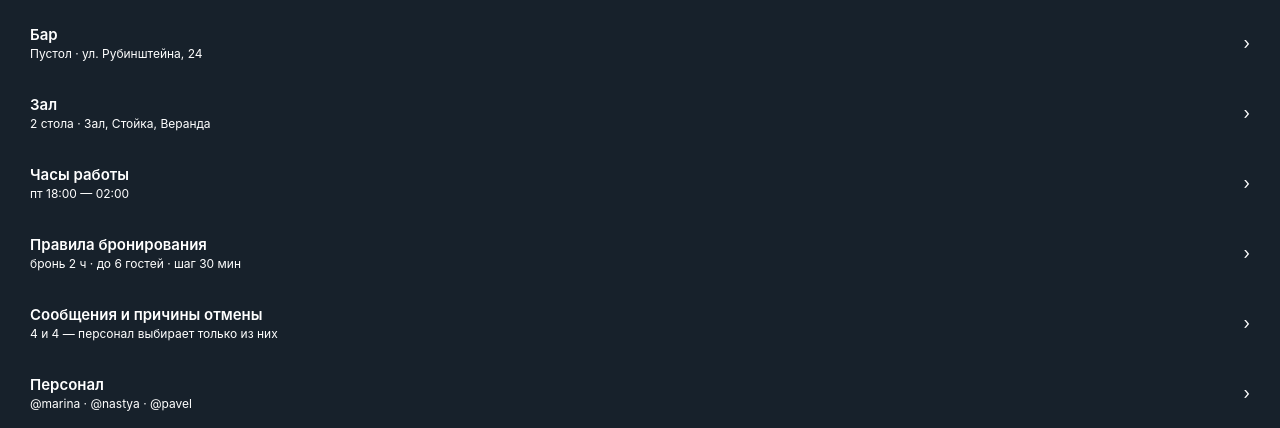
Test: the index › opens one section at a time, and comes back
The image size is (1280, 428).
Click the text "Бар": [44, 34] box [30, 25, 58, 44]
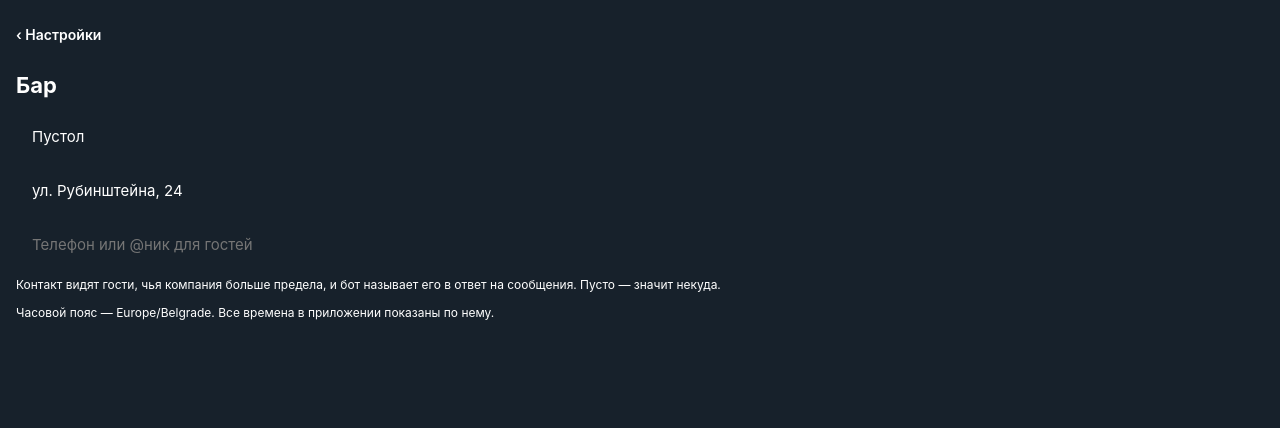
Result: the field with placeholder "Название" is shown at [16, 114, 1264, 158]
Result: the button "персонал" is gone
Click the button with aria-label "Назад": [63, 34] box [16, 12, 109, 56]
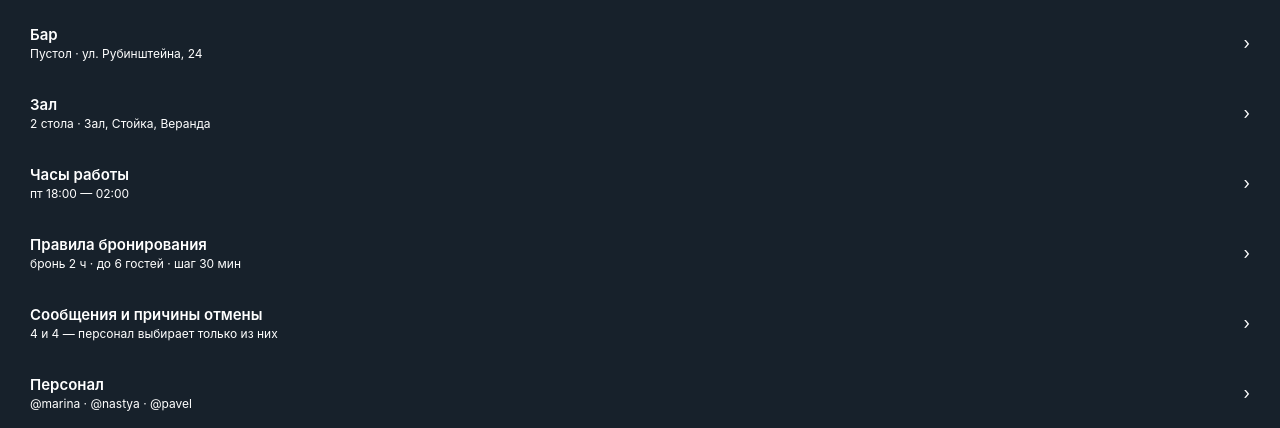
Result: the text "Персонал" is shown at [30, 375, 104, 394]
Result: the field with placeholder "Название" is gone
